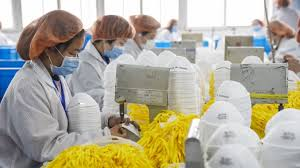masked: (25, 11, 88, 81), (93, 14, 135, 60), (133, 12, 160, 47)
